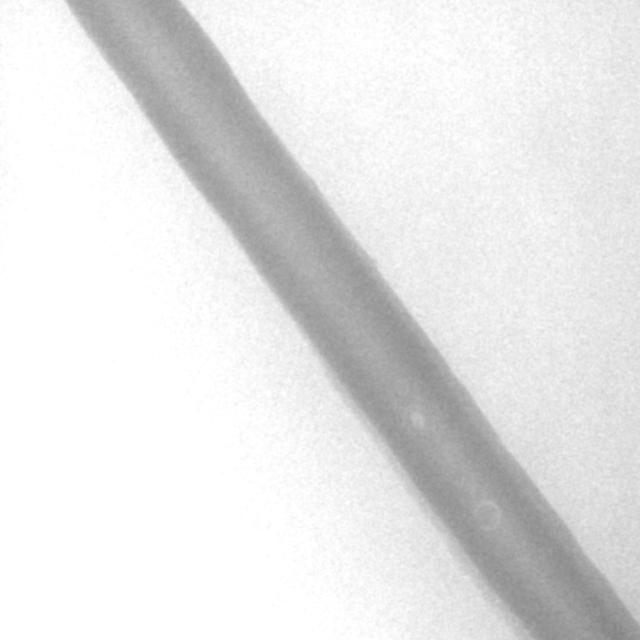hollow bead: (471, 498, 502, 533)
